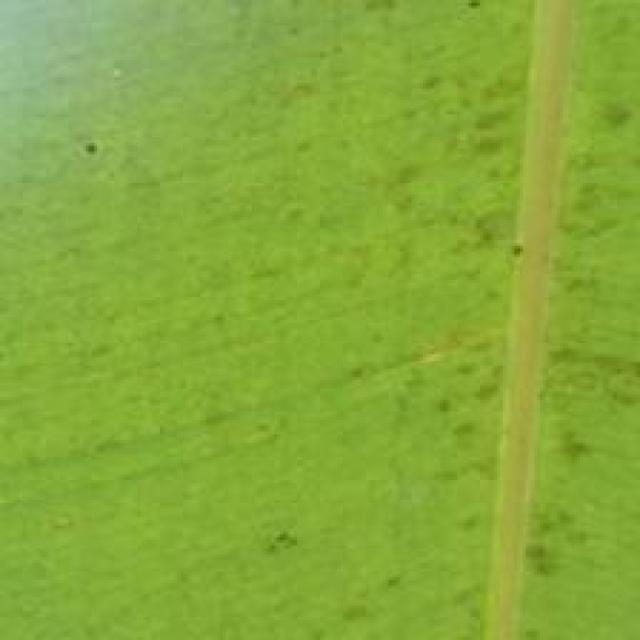Black_leaf_spot: (0, 0, 613, 616)
